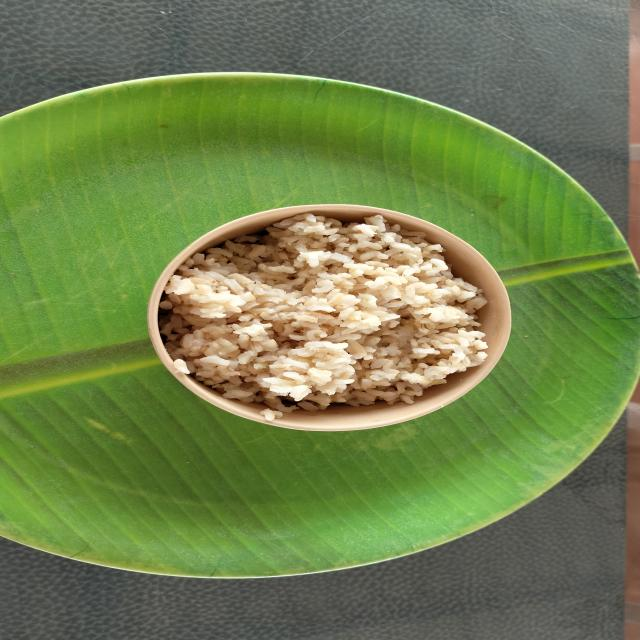brown-rice: (160, 214, 488, 419)
